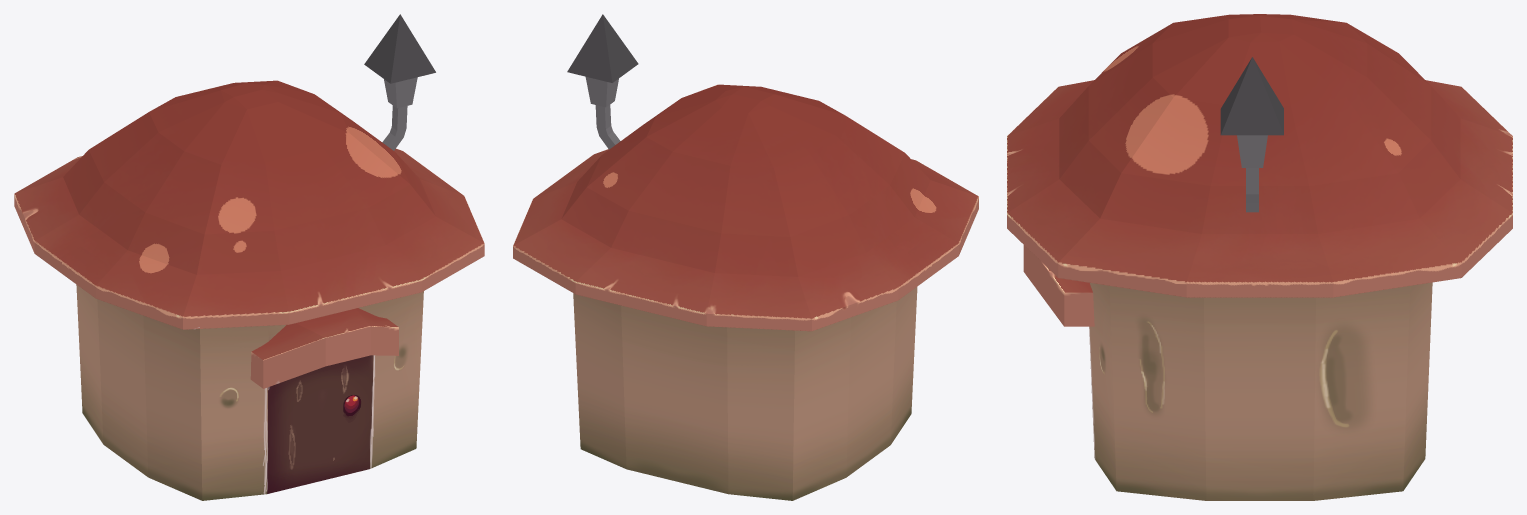
Rendered from mushroom_house_1.gltf.
The picture shows the model from 3 angles, left to right: view 1: azimuth 30°, elevation 25°; view 2: azimuth 150°, elevation 25°; view 3: azimuth 270°, elevation 25°; orthographic projection. The views are drawn at different scales.
Visible parts, largest first — view 1: MushroomHouse1Mesh; view 2: MushroomHouse1Mesh; view 3: MushroomHouse1Mesh.
Part boxes in pixels (bbox=[...]): MushroomHouse1Mesh: bbox=[14, 14, 484, 500]; MushroomHouse1Mesh: bbox=[513, 14, 978, 500]; MushroomHouse1Mesh: bbox=[1007, 14, 1512, 500].
Size of what is drawn, in the model's own units: 4.41 by 4.39 by 4.39.
Materials: 1 (1 with a texture image).
